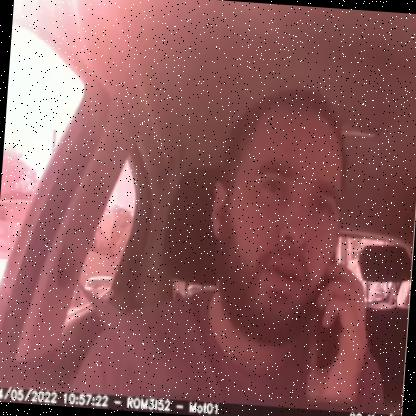phone: (301, 240, 350, 380)
